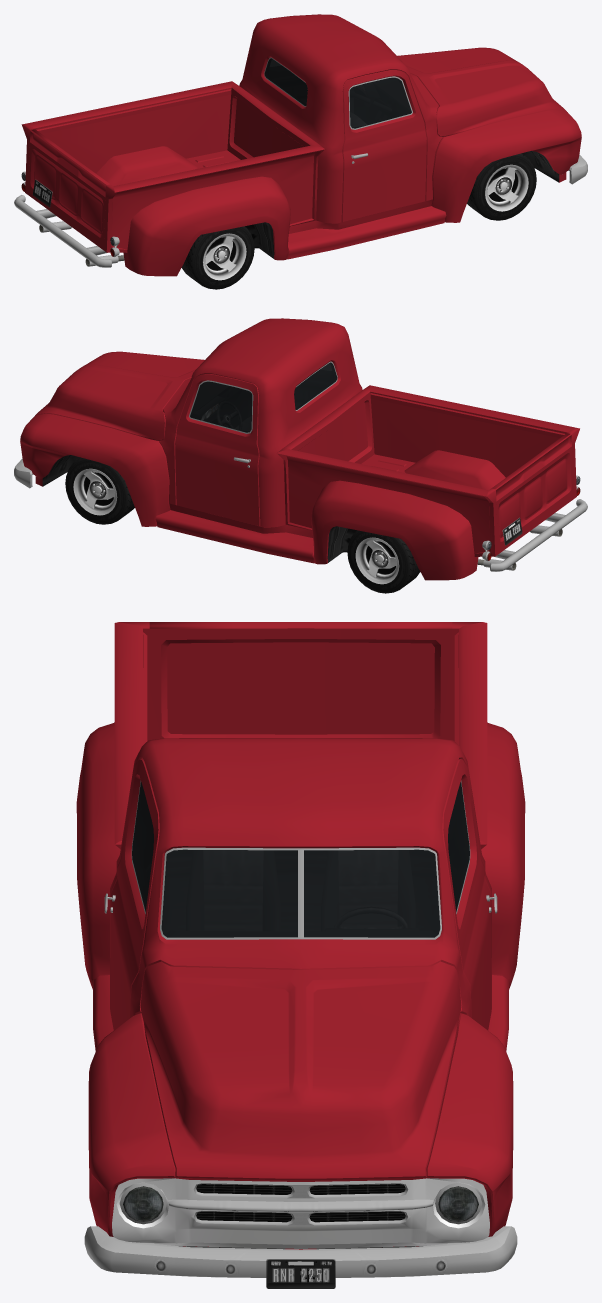
The model's file is p_pickup_rancher50.glb.
The picture shows the model from 3 angles, top to bottom: view 1: azimuth 30°, elevation 25°; view 2: azimuth 150°, elevation 25°; view 3: azimuth 270°, elevation 25°; orthographic projection. The views are drawn at different scales.
Visible parts, largest first — view 1: Rancher50_Body_RNCHR50CSTM_Bodymat_0, Rancher50_Hood_RNCHR50CSTM_Bodymat_0, Rancher50_Trunkdoor_RNCHR50CSTM_Bodymat_0, Rancher50_WheelBlades_FR_RB1c_Tire_1k_0, Rancher50_WheelBlades_RR_RB1c_Tire_1k_0, Rancher50_Interior_UCB_Interiors_2_0, Rancher50_Glass_Passangers_UCB_Lights_and_Glass_Transperent_, Rancher50_Bottom_UCB_BOTTOM_0, Rancher50_bumper_rear_A_UCB_BOTTOM_0, Rancher50_Rear_Glass_UCB_Lights_and_Glass_Transperent_0; view 2: Rancher50_Body_RNCHR50CSTM_Bodymat_0, Rancher50_Hood_RNCHR50CSTM_Bodymat_0, Rancher50_Trunkdoor_RNCHR50CSTM_Bodymat_0, Rancher50_WheelBlades_FL_RB1c_Tire_1k_0, Rancher50_WheelBlades_RL_RB1c_Tire_1k_0, Rancher50_Interior_UCB_Interiors_2_0, Rancher50_Glass_Driver_UCB_Lights_and_Glass_Transperent_0, Rancher50_Bottom_UCB_BOTTOM_0, Rancher50_bumper_rear_A_UCB_BOTTOM_0, Rancher50_Rear_Glass_UCB_Lights_and_Glass_Transperent_0; view 3: Rancher50_Body_RNCHR50CSTM_Bodymat_0, Rancher50_Hood_RNCHR50CSTM_Bodymat_0, Rancher50_Trunkdoor_RNCHR50CSTM_Bodymat_0, Rancher50_Bottom_UCB_BOTTOM_0, Rancher50_Interior_UCB_Interiors_2_0, Rancher50_Windshield_UCB_Lights_and_Glass_Transperent_0, Rancher50_Bumper_front_A_UCB_BOTTOM_0, Rancher50_Headlights_Glass_UCB_Lights_and_Glass_Transperent_, Rancher50_Headlights_UCB_Lights_and_Glass_0, Rancher50_Custom_Bumper_front_Numberplates_Numberplates_Misk, Rancher50_Glass_Driver_UCB_Lights_and_Glass_Transperent_0, Rancher50_Glass_Passangers_UCB_Lights_and_Glass_Transperent_.
Part boxes in pixels (box(x1,y1,x2,y2)): Rancher50_Body_RNCHR50CSTM_Bodymat_0: box(21, 14, 581, 276); Rancher50_Hood_RNCHR50CSTM_Bodymat_0: box(397, 47, 566, 136); Rancher50_Trunkdoor_RNCHR50CSTM_Bodymat_0: box(28, 129, 110, 247); Rancher50_WheelBlades_FR_RB1c_Tire_1k_0: box(467, 153, 536, 220); Rancher50_WheelBlades_RR_RB1c_Tire_1k_0: box(181, 226, 254, 289); Rancher50_Interior_UCB_Interiors_2_0: box(265, 59, 411, 128); Rancher50_Glass_Passangers_UCB_Lights_and_Glass_Transperent_: box(349, 77, 411, 128); Rancher50_Bottom_UCB_BOTTOM_0: box(23, 57, 559, 266); Rancher50_bumper_rear_A_UCB_BOTTOM_0: box(14, 195, 111, 267); Rancher50_Rear_Glass_UCB_Lights_and_Glass_Transperent_0: box(264, 58, 307, 105); Rancher50_Body_RNCHR50CSTM_Bodymat_0: box(20, 318, 579, 580); Rancher50_Hood_RNCHR50CSTM_Bodymat_0: box(35, 351, 204, 440); Rancher50_Trunkdoor_RNCHR50CSTM_Bodymat_0: box(491, 433, 573, 551); Rancher50_WheelBlades_FL_RB1c_Tire_1k_0: box(65, 457, 134, 524); Rancher50_WheelBlades_RL_RB1c_Tire_1k_0: box(347, 530, 420, 593); Rancher50_Interior_UCB_Interiors_2_0: box(190, 363, 336, 431); Rancher50_Glass_Driver_UCB_Lights_and_Glass_Transperent_0: box(190, 381, 252, 432); Rancher50_Bottom_UCB_BOTTOM_0: box(42, 361, 579, 570); Rancher50_bumper_rear_A_UCB_BOTTOM_0: box(490, 499, 587, 571); Rancher50_Rear_Glass_UCB_Lights_and_Glass_Transperent_0: box(294, 362, 337, 409); Rancher50_Body_RNCHR50CSTM_Bodymat_0: box(76, 622, 525, 1249); Rancher50_Hood_RNCHR50CSTM_Bodymat_0: box(140, 961, 461, 1180); Rancher50_Trunkdoor_RNCHR50CSTM_Bodymat_0: box(149, 622, 452, 739); Rancher50_Bottom_UCB_BOTTOM_0: box(104, 722, 497, 1248); Rancher50_Interior_UCB_Interiors_2_0: box(132, 783, 469, 937); Rancher50_Windshield_UCB_Lights_and_Glass_Transperent_0: box(161, 849, 440, 937); Rancher50_Bumper_front_A_UCB_BOTTOM_0: box(84, 1226, 517, 1277); Rancher50_Headlights_Glass_UCB_Lights_and_Glass_Transperent_: box(123, 1186, 478, 1221); Rancher50_Headlights_UCB_Lights_and_Glass_0: box(123, 1187, 478, 1221); Rancher50_Custom_Bumper_front_Numberplates_Numberplates_Misk: box(266, 1259, 335, 1288); Rancher50_Glass_Driver_UCB_Lights_and_Glass_Transperent_0: box(448, 782, 469, 911); Rancher50_Glass_Passangers_UCB_Lights_and_Glass_Transperent_: box(132, 782, 153, 911).
Bounding box in the file's own units: 4.95 × 1.71 × 1.94.
7 materials, 6 textured.
